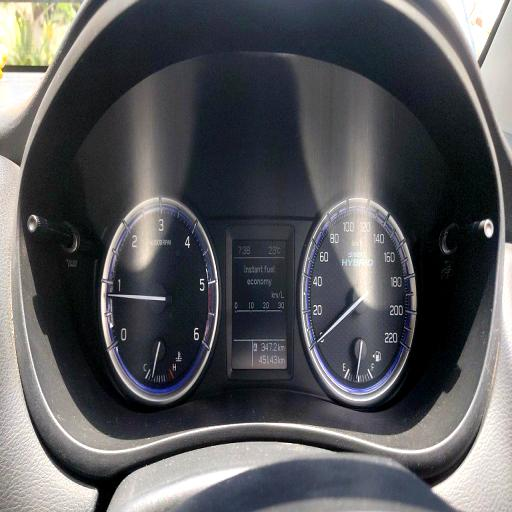tachometer: (100, 194, 219, 403)
